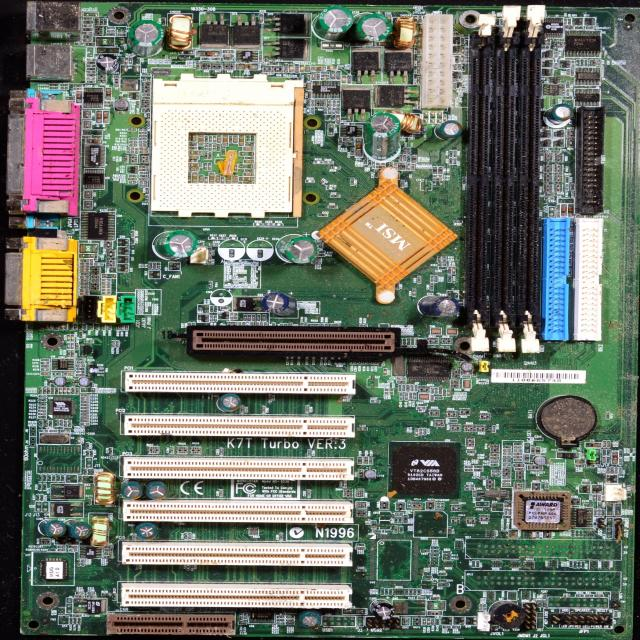Capacitor Jumper: (419, 393, 429, 400), (463, 380, 471, 388), (574, 459, 585, 464), (370, 399, 380, 404), (41, 372, 52, 376), (80, 259, 90, 263), (446, 388, 451, 396), (261, 406, 266, 414), (473, 468, 483, 472), (430, 553, 440, 557), (180, 56, 190, 60), (49, 86, 59, 90), (80, 292, 89, 296), (76, 357, 85, 361), (397, 376, 406, 380), (80, 422, 89, 426), (54, 426, 63, 430), (356, 546, 365, 550), (65, 230, 74, 234), (67, 334, 71, 342), (70, 334, 74, 342), (59, 387, 63, 395), (75, 387, 79, 395), (81, 409, 89, 413), (120, 38, 124, 46), (68, 420, 72, 428), (369, 456, 373, 464), (610, 466, 614, 474), (38, 474, 42, 482), (44, 474, 48, 482), (380, 588, 384, 596), (196, 62, 200, 70), (80, 263, 90, 266), (80, 266, 90, 269), (80, 269, 90, 272), (80, 289, 90, 292), (52, 372, 62, 375), (64, 372, 74, 375), (81, 394, 91, 397), (80, 397, 90, 400), (80, 401, 90, 404), (416, 407, 426, 410), (80, 413, 90, 416), (80, 416, 90, 419), (80, 419, 90, 422), (575, 464, 585, 467), (420, 549, 430, 552), (594, 594, 604, 597), (86, 595, 96, 598), (94, 253, 98, 260), (406, 384, 410, 391), (51, 387, 55, 394), (404, 393, 408, 400), (240, 406, 244, 413), (44, 420, 48, 427), (77, 437, 81, 444), (531, 447, 535, 454), (308, 450, 312, 457), (571, 530, 575, 537), (538, 600, 542, 607), (136, 101, 140, 108), (102, 285, 111, 288), (76, 364, 85, 367), (463, 372, 472, 375), (358, 427, 367, 430), (467, 450, 476, 453), (490, 453, 499, 456), (490, 456, 499, 459), (473, 465, 482, 468), (515, 467, 524, 470), (73, 614, 82, 617), (105, 104, 114, 107), (82, 136, 91, 139), (102, 279, 110, 282), (102, 282, 110, 285), (61, 322, 64, 330), (46, 322, 49, 330), (397, 380, 405, 383), (48, 378, 51, 386), (64, 388, 68, 394), (56, 387, 59, 395), (306, 406, 309, 414), (415, 429, 418, 437), (504, 446, 512, 449), (171, 446, 174, 454), (110, 447, 113, 455), (619, 450, 622, 458), (597, 502, 601, 508), (76, 595, 84, 598), (124, 58, 128, 64), (277, 612, 285, 615), (74, 84, 82, 87), (105, 101, 113, 104), (140, 178, 148, 181), (417, 404, 428, 406), (70, 323, 73, 330), (122, 324, 125, 331), (72, 379, 75, 386), (39, 387, 42, 394), (48, 387, 51, 394), (68, 387, 71, 394), (443, 389, 446, 396), (268, 395, 271, 402), (220, 448, 223, 455), (543, 600, 546, 607), (240, 613, 243, 620), (384, 389, 394, 391), (384, 392, 394, 394), (80, 407, 90, 409), (39, 430, 49, 432), (68, 546, 78, 548), (422, 576, 432, 578), (139, 148, 149, 150), (95, 263, 104, 265), (80, 276, 89, 278), (50, 323, 53, 329), (378, 361, 381, 367), (81, 404, 90, 406), (61, 430, 70, 432), (534, 438, 543, 440), (584, 504, 593, 506), (104, 546, 113, 548), (104, 556, 113, 558), (438, 580, 447, 582), (50, 84, 59, 86), (124, 156, 127, 162), (139, 166, 148, 168), (128, 178, 137, 180), (102, 289, 110, 291), (102, 292, 110, 294), (384, 368, 386, 376), (440, 386, 442, 394), (414, 392, 416, 400), (514, 453, 522, 455), (514, 456, 522, 458), (142, 79, 150, 81), (94, 136, 102, 138), (140, 151, 148, 153), (140, 169, 148, 171), (474, 369, 476, 376), (44, 387, 46, 394), (400, 393, 402, 400), (574, 561, 576, 568)
Connector: (108, 612, 234, 635), (40, 558, 68, 580), (478, 612, 490, 632)
IC: (408, 356, 452, 382), (81, 212, 115, 240), (50, 398, 76, 418), (570, 507, 594, 528), (73, 599, 106, 613), (85, 145, 105, 166), (84, 169, 104, 189), (84, 87, 102, 109), (250, 608, 274, 623), (52, 358, 74, 371), (80, 546, 102, 558), (236, 50, 258, 62), (83, 129, 102, 136)
Resistor Jumper: (513, 463, 524, 468), (438, 582, 449, 586), (40, 358, 50, 362), (465, 484, 475, 488), (80, 272, 89, 276), (76, 367, 85, 371), (50, 429, 59, 433), (502, 482, 511, 486), (443, 550, 452, 554), (104, 552, 113, 556), (81, 282, 89, 286), (90, 323, 94, 331), (70, 350, 74, 358), (41, 364, 49, 368), (410, 384, 414, 392), (38, 398, 46, 402), (38, 415, 46, 419), (48, 419, 52, 427), (514, 442, 522, 446), (606, 456, 610, 464), (513, 458, 521, 462), (48, 474, 52, 482), (78, 475, 82, 483), (38, 483, 42, 491), (476, 560, 480, 568), (76, 591, 84, 595), (586, 594, 594, 598), (286, 618, 294, 622), (238, 621, 246, 625), (142, 93, 150, 97), (139, 134, 147, 138), (139, 144, 147, 148), (66, 343, 71, 349), (422, 428, 427, 434), (438, 573, 448, 576), (153, 262, 157, 269), (74, 322, 78, 329), (125, 324, 129, 331), (116, 340, 120, 347), (66, 350, 70, 357), (398, 385, 402, 392), (56, 419, 60, 426), (39, 420, 43, 427), (607, 440, 611, 447), (86, 442, 90, 449), (559, 448, 566, 452), (607, 449, 611, 456), (90, 450, 94, 457), (618, 458, 622, 465), (57, 475, 61, 482), (61, 475, 65, 482), (52, 475, 56, 482), (43, 484, 47, 491), (40, 494, 44, 501), (598, 494, 602, 501), (36, 494, 40, 501), (592, 494, 596, 501), (88, 498, 92, 505), (579, 530, 583, 537), (431, 546, 438, 550), (81, 559, 85, 566), (581, 561, 585, 568), (417, 588, 421, 595), (483, 604, 487, 611), (62, 607, 66, 614), (69, 617, 73, 624), (78, 617, 82, 624), (61, 86, 68, 90), (80, 279, 89, 282), (76, 361, 85, 364), (40, 368, 49, 371), (38, 395, 47, 398), (435, 396, 444, 399), (38, 403, 47, 406), (449, 419, 458, 422), (513, 446, 522, 449), (503, 452, 512, 455), (491, 473, 500, 476), (502, 479, 511, 482), (442, 557, 451, 560), (575, 594, 584, 597), (128, 181, 137, 184), (64, 323, 68, 329), (108, 324, 112, 330), (96, 324, 100, 330), (80, 331, 84, 337), (111, 341, 115, 347), (70, 343, 74, 349), (77, 371, 85, 374), (414, 385, 418, 391), (402, 384, 405, 392), (71, 388, 75, 394), (39, 406, 47, 409), (38, 409, 46, 412), (38, 412, 46, 415), (492, 426, 496, 432), (603, 440, 606, 448), (504, 449, 512, 452), (602, 450, 606, 456), (503, 455, 511, 458), (110, 456, 118, 459), (465, 465, 473, 468), (615, 466, 618, 474), (480, 476, 488, 479), (582, 481, 590, 484), (545, 483, 549, 489), (576, 530, 580, 536), (48, 549, 56, 552), (430, 560, 438, 563), (120, 58, 124, 64), (128, 58, 132, 64), (614, 611, 618, 617), (73, 618, 77, 624), (422, 618, 426, 624), (277, 622, 285, 625), (142, 73, 150, 76), (61, 83, 69, 86), (142, 97, 150, 100), (146, 121, 150, 127), (139, 128, 147, 131), (129, 144, 137, 147), (126, 147, 134, 150), (126, 150, 134, 153), (139, 175, 147, 178), (139, 181, 147, 184), (157, 262, 160, 269), (117, 324, 120, 331), (431, 387, 434, 394), (409, 392, 412, 399), (60, 419, 63, 426), (64, 420, 67, 427), (514, 449, 521, 452), (606, 467, 609, 474), (84, 469, 87, 476), (92, 469, 95, 476), (473, 491, 476, 498), (77, 559, 80, 566), (577, 561, 580, 568), (431, 563, 438, 566), (389, 588, 392, 595), (543, 592, 546, 599), (59, 607, 62, 614), (436, 618, 439, 625), (139, 141, 146, 144), (69, 549, 79, 551), (90, 260, 93, 266), (103, 324, 106, 330), (462, 376, 471, 378), (431, 395, 434, 401), (419, 428, 422, 434), (503, 460, 512, 462), (491, 470, 500, 472), (88, 469, 91, 475), (465, 488, 474, 490), (104, 549, 113, 551), (472, 561, 475, 567), (385, 588, 388, 594), (244, 613, 247, 619), (141, 110, 150, 112), (147, 113, 150, 119), (128, 175, 137, 177), (80, 286, 88, 288), (491, 461, 499, 463), (503, 464, 511, 466), (465, 469, 473, 471), (503, 477, 511, 479), (356, 544, 364, 546), (58, 546, 66, 548), (57, 549, 65, 551), (424, 573, 432, 575), (406, 588, 408, 596), (87, 592, 95, 594), (276, 616, 284, 618), (286, 622, 294, 624), (452, 626, 460, 628), (128, 129, 136, 131), (140, 138, 148, 140), (129, 138, 137, 140), (130, 141, 138, 143), (139, 185, 147, 187), (435, 388, 438, 393), (602, 457, 605, 462), (619, 468, 622, 473), (150, 262, 152, 269), (87, 450, 89, 457), (431, 550, 438, 552), (443, 554, 450, 556), (431, 557, 438, 559), (418, 597, 425, 599), (480, 604, 482, 611), (138, 58, 140, 65), (286, 616, 293, 618), (277, 619, 284, 621), (432, 618, 434, 625), (443, 626, 450, 628), (139, 132, 146, 134), (140, 172, 147, 174), (146, 195, 148, 202), (570, 561, 572, 567), (414, 588, 416, 594), (136, 148, 138, 154), (146, 188, 148, 194)
Transistor: (260, 30, 318, 64), (263, 13, 308, 37), (232, 12, 260, 50), (200, 12, 228, 49), (51, 483, 84, 499), (51, 502, 83, 518), (465, 616, 478, 625), (591, 484, 602, 494), (148, 270, 160, 279), (126, 165, 138, 174), (441, 616, 452, 625), (117, 247, 129, 255), (606, 474, 618, 482), (579, 485, 591, 493), (454, 616, 464, 625), (169, 262, 180, 270), (55, 537, 66, 545), (129, 92, 140, 100), (118, 238, 128, 246), (118, 255, 128, 263), (118, 264, 128, 272), (67, 539, 79, 544)
